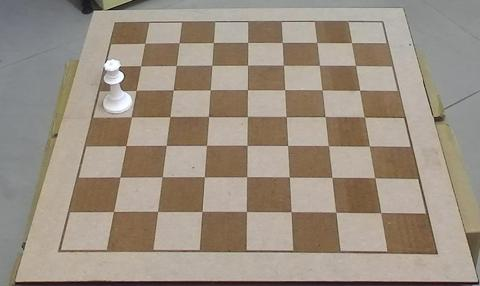xcorner: (346, 37, 356, 47), (277, 37, 287, 47), (242, 37, 252, 47), (139, 38, 149, 48), (314, 60, 324, 70), (278, 60, 288, 70), (242, 60, 252, 70), (206, 60, 216, 70), (171, 60, 181, 70), (135, 60, 145, 70), (355, 84, 365, 94), (317, 84, 327, 94), (320, 111, 330, 121), (281, 111, 291, 121), (242, 111, 252, 121), (203, 111, 213, 121), (164, 111, 174, 121), (126, 111, 136, 121), (283, 140, 293, 150), (242, 140, 252, 150), (201, 140, 211, 150), (161, 140, 171, 150), (120, 140, 130, 150), (242, 172, 252, 182), (199, 172, 209, 182), (157, 172, 167, 182), (377, 208, 387, 218), (197, 207, 207, 217), (152, 207, 162, 217), (108, 207, 118, 217), (312, 37, 321, 47), (208, 38, 218, 47), (242, 85, 252, 94), (205, 85, 215, 94), (168, 85, 177, 95), (131, 85, 140, 95), (360, 111, 369, 121), (365, 141, 375, 150), (324, 141, 334, 150), (285, 172, 294, 182), (115, 172, 124, 182), (332, 208, 341, 218), (242, 207, 251, 217), (174, 38, 183, 47), (351, 60, 360, 69), (280, 85, 289, 94), (371, 173, 380, 182), (328, 173, 337, 182), (287, 208, 296, 217)
